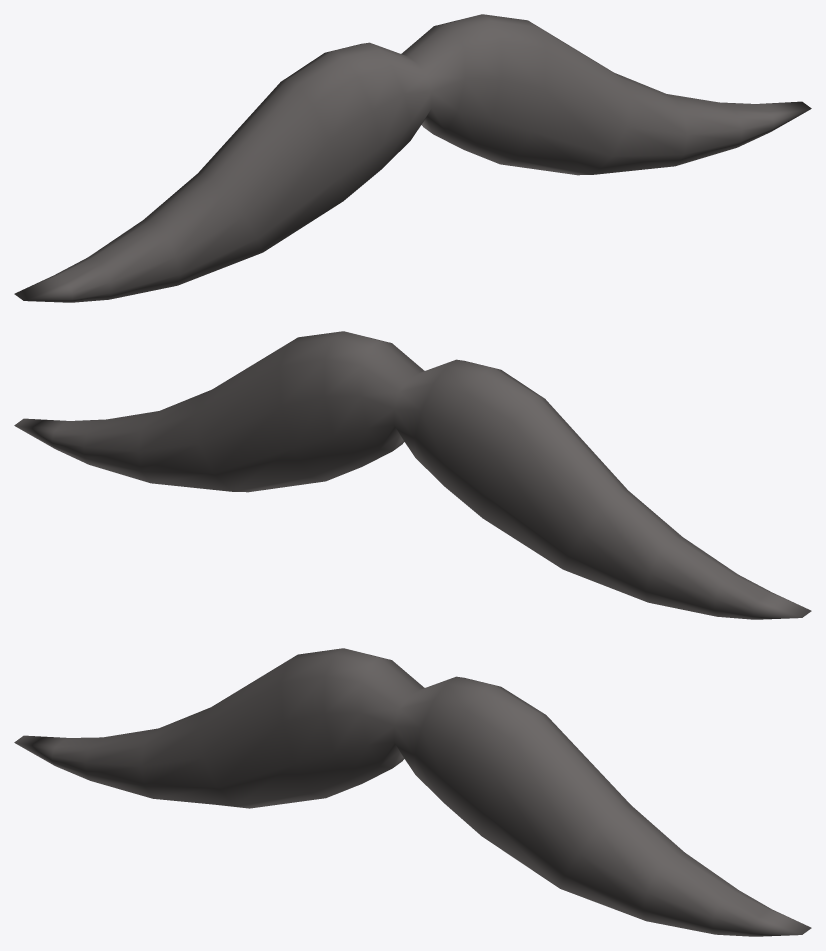
File: Beard_12_04.fbx
3 renders of one model, top to bottom at view 1: azimuth 30°, elevation 25°; view 2: azimuth 150°, elevation 25°; view 3: azimuth 330°, elevation 25°, orthographic.
Parts seen in each view (by area): view 1: Beard_12_04; view 2: Beard_12_04; view 3: Beard_12_04.
Part boxes in pixels (box(x1,y1,x2,y2)): Beard_12_04: box(14, 14, 811, 302); Beard_12_04: box(14, 331, 811, 619); Beard_12_04: box(14, 648, 811, 936).
Bounding box in the file's own units: 19.83 × 4.47 × 2.17.
